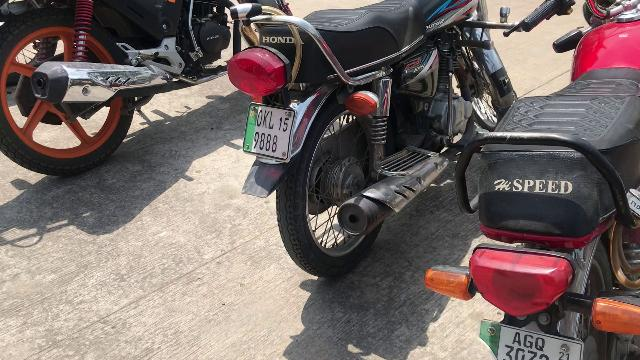plate: (242, 101, 296, 163)
